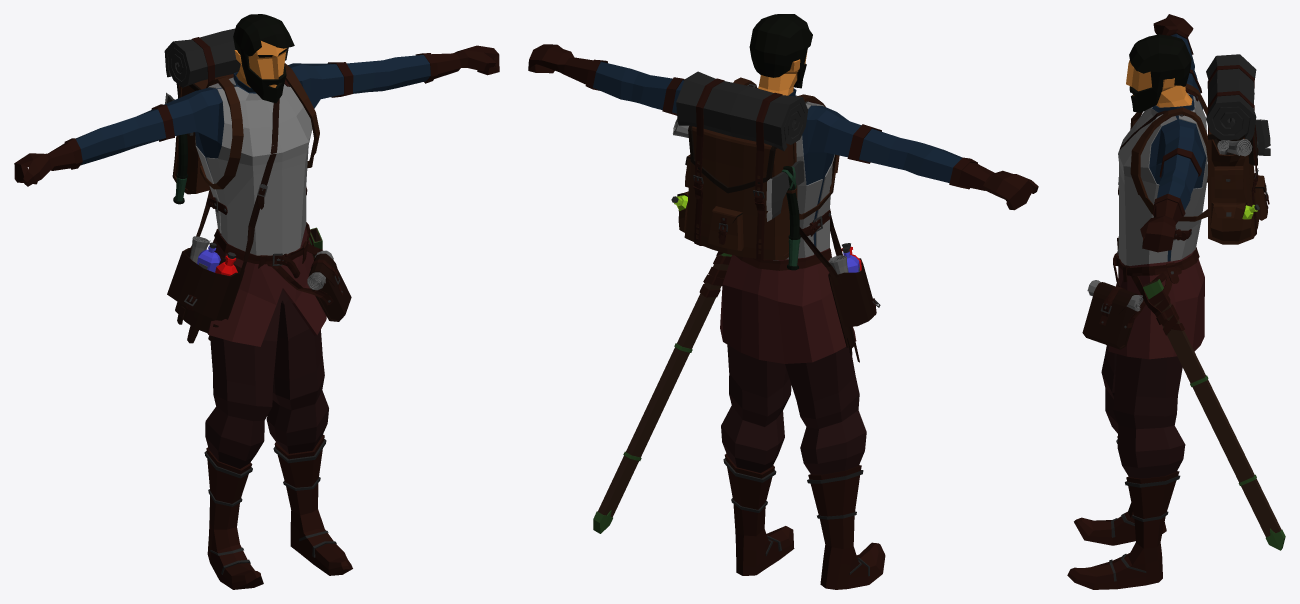
Rendered from MainCharacter.obj.
3 views of the same model, side by side, from view 1: azimuth 30°, elevation 25°; view 2: azimuth 150°, elevation 25°; view 3: azimuth 270°, elevation 25° (orthographic). The views are drawn at different scales.
Parts seen in each view (by area): view 1: MainMesh, Backpack.001, Shoulder bag, Hair/Beard, belt bag, belt; view 2: MainMesh, Backpack.001, Sword-Sheet, Shoulder bag, Hair/Beard, belt; view 3: MainMesh, Backpack.001, Sword-Sheet, belt bag, Hair/Beard, belt.
Part boxes in pixels (<box>): MainMesh: <box>14,41,499,589</box>; Backpack.001: <box>164,28,319,204</box>; Shoulder bag: <box>167,99,279,343</box>; Hair/Beard: <box>233,14,294,103</box>; belt bag: <box>258,230,351,321</box>; belt: <box>214,222,323,278</box>; MainMesh: <box>528,44,1038,589</box>; Backpack.001: <box>671,71,839,270</box>; Sword-Sheet: <box>593,253,731,533</box>; Shoulder bag: <box>799,209,880,362</box>; Hair/Beard: <box>749,14,812,88</box>; belt: <box>699,248,831,297</box>; MainMesh: <box>1067,14,1207,589</box>; Backpack.001: <box>1130,54,1270,244</box>; Sword-Sheet: <box>1143,279,1285,550</box>; belt bag: <box>1082,267,1181,349</box>; Hair/Beard: <box>1129,34,1191,112</box>; belt: <box>1113,247,1199,335</box>.
Bounding box in the file's own units: 1.65 × 1.79 × 0.6702.
